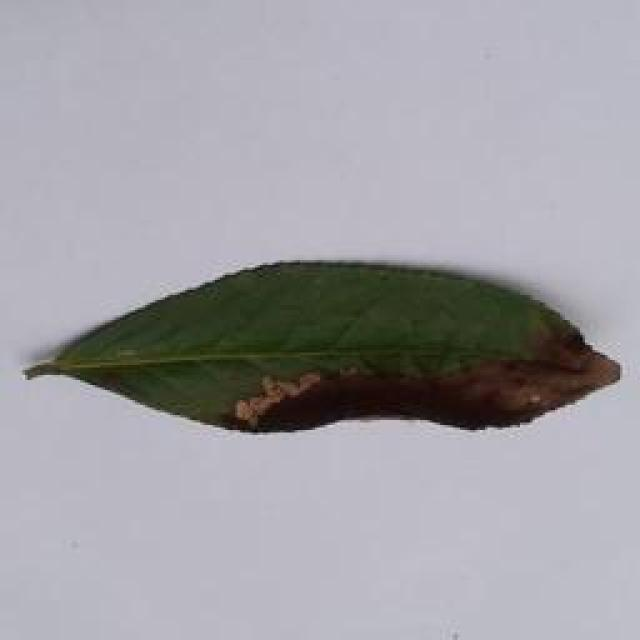Brown Blight: (3, 259, 626, 451)
